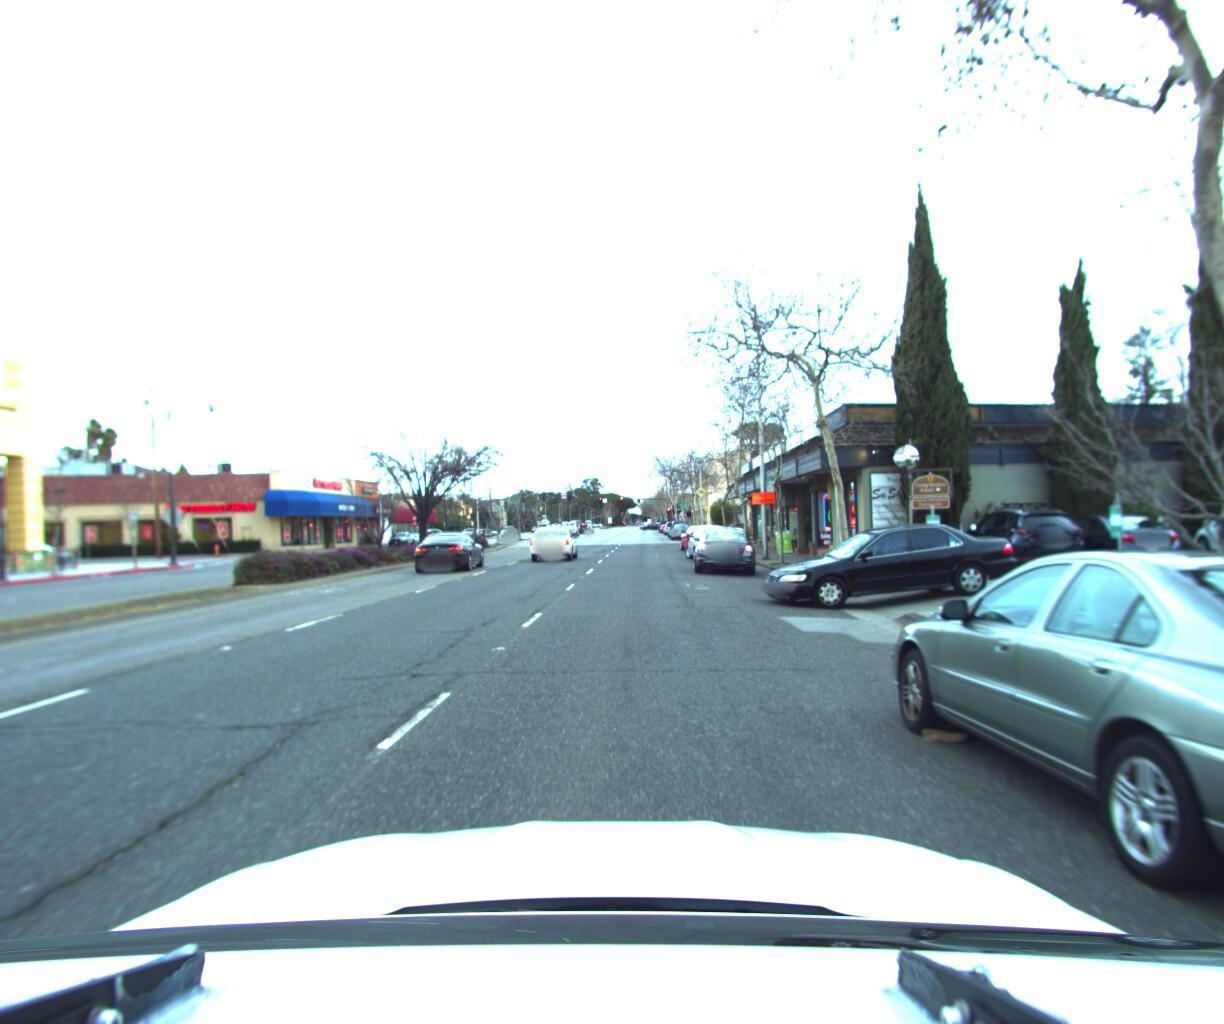car: (860, 530, 1224, 1024), (752, 513, 1030, 607), (947, 494, 1096, 568), (1033, 502, 1191, 563), (685, 517, 760, 573), (410, 525, 489, 573), (521, 519, 584, 560), (681, 519, 741, 558), (685, 517, 733, 552), (673, 517, 721, 548), (666, 518, 691, 536)
